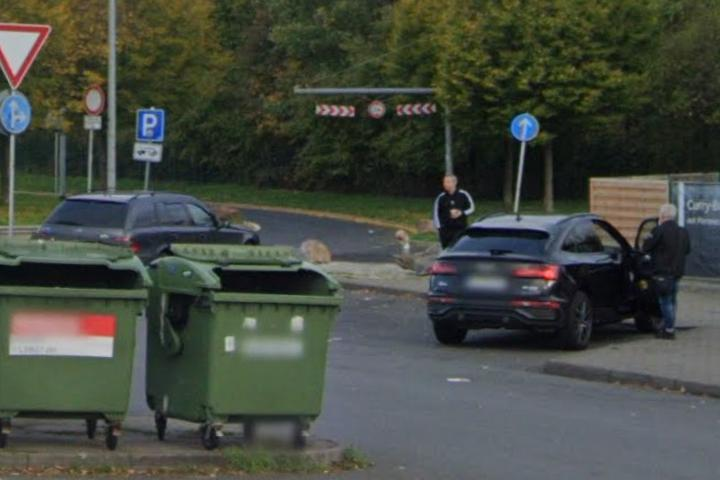traffic_sign: (1, 22, 55, 92), (1, 93, 32, 134), (135, 109, 165, 142), (508, 113, 541, 143), (83, 84, 103, 114)
vehicle: (420, 209, 675, 351), (27, 185, 269, 284)
